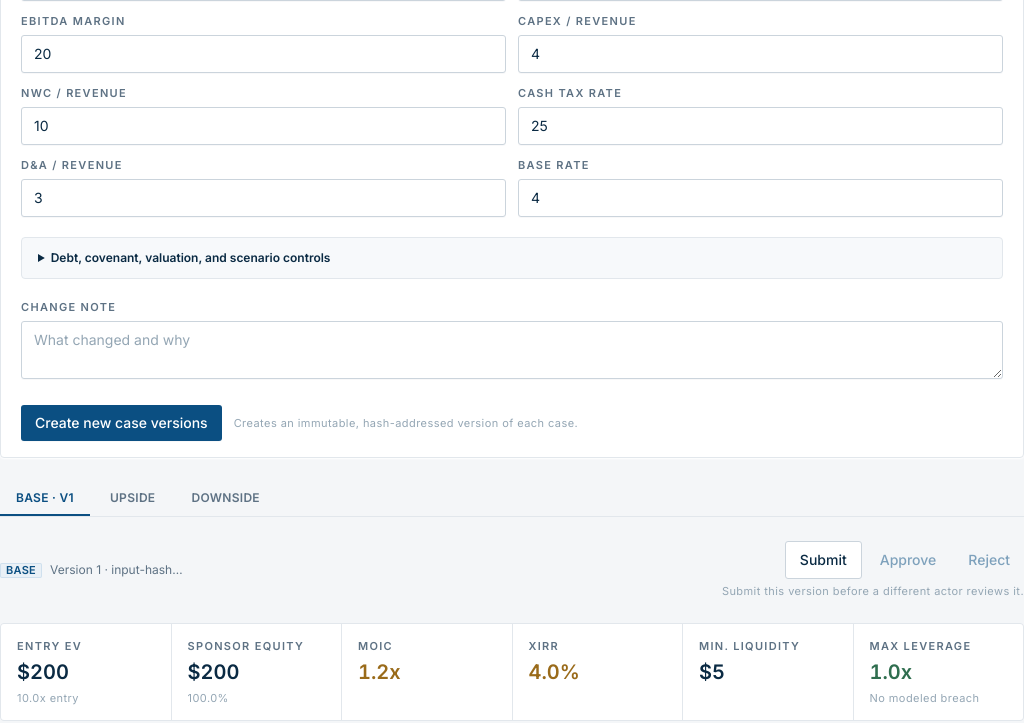
Test: UnderwritingWorkbench input governance › hides saved results immediately when a model input changes
This screenshot has width=1024, height=723.
(page scrolled)
Expected: the text "Version 1 · input-hash…" is shown, [50,562,183,578]
Type "Documentation only" into the text box labelled "Change note" at [512, 350], box [21,321,1003,379]
(page scrolled)
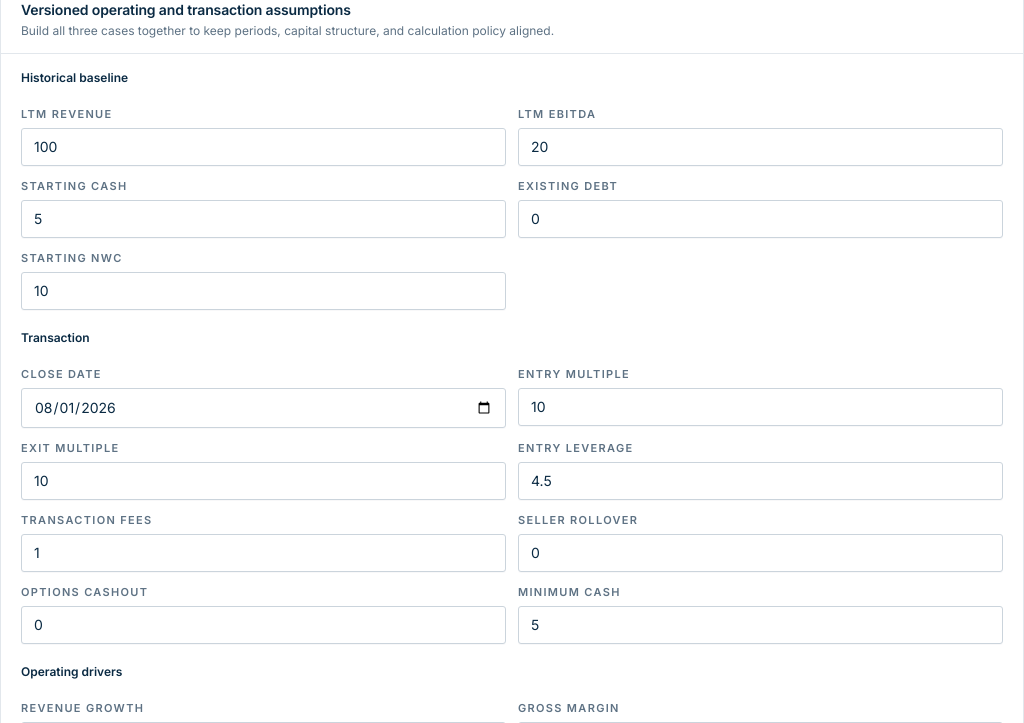
Replace the text in the number field labelled "LTM revenue" with "110" at [264, 147], box [21,128,506,166]
(page scrolled)
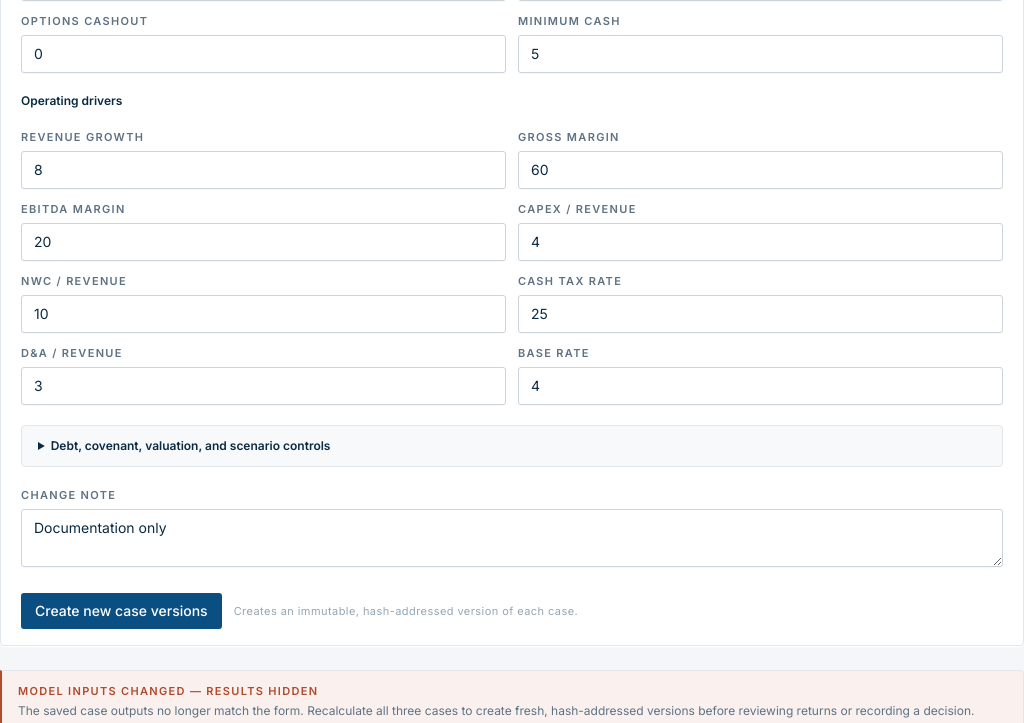
Expected: the text "Version 1" is not shown
Now the text "Model inputs changed — results hidden" is shown, box [18,684,318,698]
